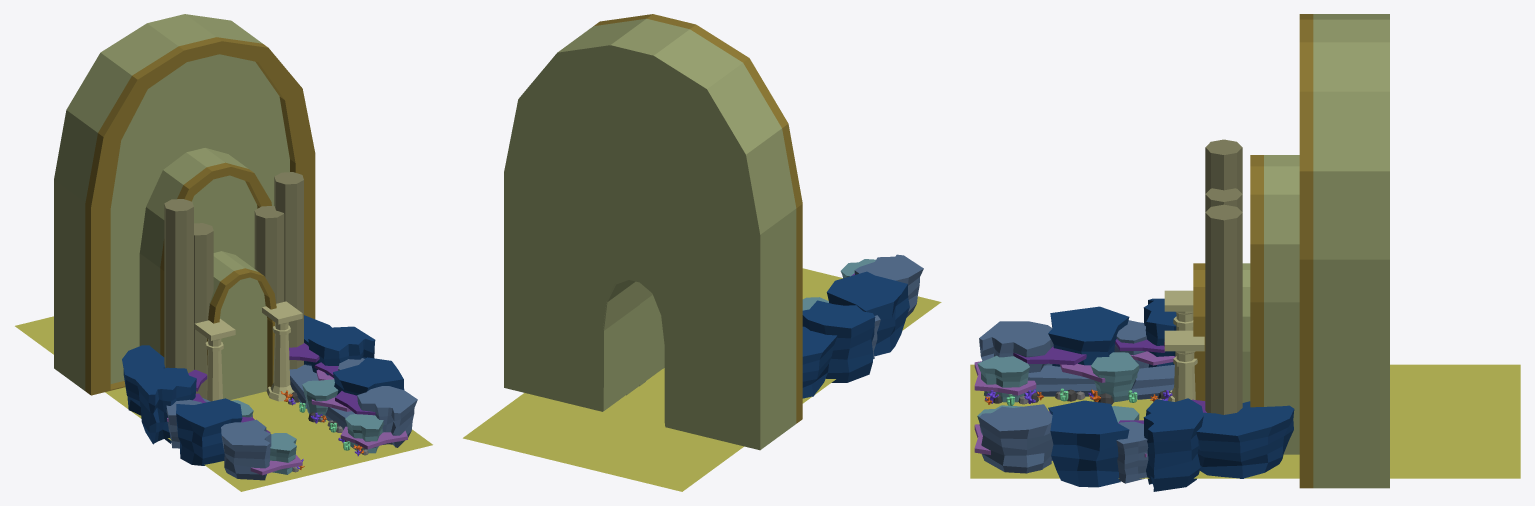
The model's file is Entrada.fbx.
3 views of the same model, side by side, from view 1: azimuth 30°, elevation 25°; view 2: azimuth 150°, elevation 25°; view 3: azimuth 270°, elevation 25° (orthographic). The views are drawn at different scales.
Parts seen in each view (by area): view 1: Porta.002, Porta.001, Chão, Coluna.001, Coluna.003, Pedra_grande.002, Porta.006, Pedra_grande.003, Porta, Pedra_media.003, Coluna.002, Coluna.004 (+13 smaller); view 2: Porta.002, Chão, Pedra_grande.003, Pedra_grande.002, Pedra_media.004, Porta.001, Pedra_media.003; view 3: Porta.002, Chão, Porta.001, Coluna.003, Pedra_media.002, Pedra_grande, Pedra_grande.001, Pedra_media.001, Pedra_grande.002, Porta, Pedra_media.003, Coluna.001 (+12 smaller).
Part boxes in pixels (box(x1,y1,x2,y2)): Porta.002: box(54, 14, 315, 395); Porta.001: box(139, 148, 271, 356); Chão: box(15, 316, 432, 491); Coluna.001: box(164, 199, 193, 372); Coluna.003: box(274, 172, 303, 369); Pedra_grande.002: box(176, 398, 242, 465); Porta.006: box(239, 277, 267, 397); Pedra_grande.003: box(135, 367, 196, 444); Porta: box(207, 251, 276, 388); Pedra_media.003: box(221, 419, 271, 480); Coluna.002: box(194, 223, 213, 398); Coluna.004: box(254, 206, 284, 303); Porta.002: box(504, 14, 802, 450); Chão: box(463, 268, 941, 491); Pedra_grande.003: box(802, 300, 875, 382); Pedra_grande.002: box(826, 271, 909, 356); Pedra_media.004: box(802, 326, 837, 398); Porta.001: box(626, 285, 664, 395); Pedra_media.003: box(854, 254, 923, 317); Porta.002: box(1299, 14, 1389, 488); Chão: box(970, 364, 1520, 478); Porta.001: box(1250, 155, 1299, 454); Coluna.003: box(1205, 204, 1242, 414); Pedra_media.002: box(1196, 401, 1294, 478); Pedra_grande: box(1048, 400, 1129, 487); Pedra_grande.001: box(1143, 398, 1203, 491); Pedra_media.001: box(979, 404, 1053, 473); Pedra_grande.002: box(1048, 306, 1129, 366); Porta: box(1193, 263, 1250, 402); Pedra_media.003: box(979, 321, 1053, 372); Coluna.001: box(1205, 139, 1242, 193).
Bounding box in the file's own units: 236 × 327 × 408.
